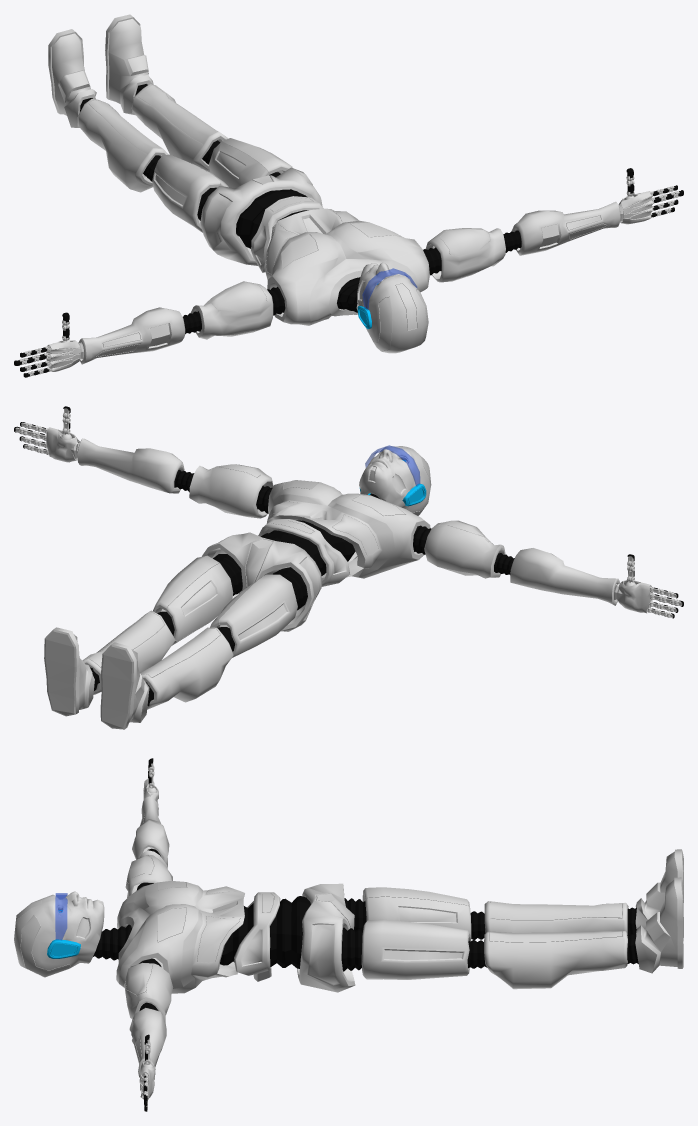
The model's file is _robot.FBX.
3 renders of one model, top to bottom at view 1: azimuth 30°, elevation 25°; view 2: azimuth 150°, elevation 25°; view 3: azimuth 270°, elevation 25°, orthographic. The views are drawn at different scales.
Visible parts, largest first — view 1: body, head, Pelvis, L_Calf, R_Calf01, L_UpperArm, L_Forearm, L_Forearm001, L_UpperArm001, R_Foot01, L_Thigh, L_Foot (+4 smaller); view 2: body, L_Thigh, R_Thigh01, L_Calf, Pelvis, L_Forearm, L_UpperArm, head, L_UpperArm001, L_Forearm001, R_Foot01, L_Foot (+3 smaller); view 3: body, R_Calf01, R_Thigh01, head, Pelvis, L_Calf, L_Thigh, R_Foot01, L_UpperArm001, L_Foot, L_Forearm001, L_Forearm (+2 smaller).
Part boxes in pixels (x1,y1,x2,y2): body: (236,189,429,325); head: (356,262,428,353); Pelvis: (200,167,322,265); L_Calf: (78,99,168,192); R_Calf01: (131,84,227,172); L_UpperArm: (190,281,285,339); L_Forearm: (78,307,201,364); L_Forearm001: (503,201,620,255); L_UpperArm001: (423,228,505,282); R_Foot01: (105,14,153,115); L_Thigh: (152,154,238,235); L_Foot: (48,29,96,127); body: (258,480,430,586); L_Thigh: (210,569,307,657); R_Thigh01: (153,554,242,645); L_Calf: (140,627,234,709); Pelvis: (202,532,322,631); L_Forearm: (494,548,620,605); L_UpperArm: (413,520,505,578); head: (359,445,431,515); L_UpperArm001: (189,464,273,518); L_Forearm001: (77,438,194,493); R_Foot01: (44,627,99,716); L_Foot: (100,642,153,729); body: (116,881,310,993); R_Calf01: (467,931,627,989); R_Thigh01: (341,919,470,979); head: (14,891,104,977); Pelvis: (297,883,355,992); L_Calf: (470,901,628,939); L_Thigh: (344,887,471,940); R_Foot01: (627,877,683,973); L_UpperArm001: (124,958,173,1022); L_Foot: (627,849,683,940); L_Forearm001: (129,1002,166,1079); L_Forearm: (132,796,169,866).
Size of the model in its own units: 44.67 by 6.97 by 37.4.
